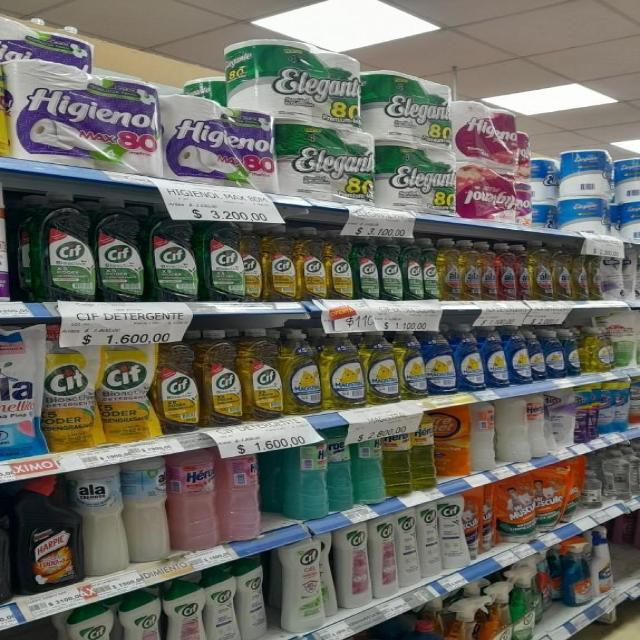ala_conc_amarillo: (530, 241, 552, 301), (438, 238, 459, 300), (460, 240, 480, 301), (552, 241, 571, 301), (480, 241, 497, 301), (572, 244, 588, 301), (516, 242, 530, 301)
ala_conc_rojo: (497, 242, 515, 301)
ala_crem_blanco: (76, 465, 126, 575), (125, 456, 169, 564), (470, 401, 496, 471)
cif_conc_bot_amarilla: (157, 331, 199, 433), (201, 328, 241, 426), (242, 327, 280, 421), (264, 223, 296, 302), (296, 226, 324, 300), (326, 229, 352, 300), (242, 223, 262, 302)
cif_conc_botella_verde: (36, 192, 94, 302), (96, 197, 145, 302), (148, 204, 198, 302), (202, 216, 242, 302), (354, 232, 379, 300), (380, 234, 402, 300), (402, 237, 422, 300), (423, 237, 438, 301)
cif_conc_sachet_amarillo: (41, 330, 97, 451), (99, 332, 154, 442)
heroe: (170, 448, 217, 552), (275, 434, 328, 519), (218, 445, 261, 543)
magistral_con_amarillo: (322, 331, 364, 409), (282, 329, 320, 414), (365, 331, 398, 404), (398, 329, 425, 400)
magistral_con_azul: (426, 327, 454, 396), (456, 325, 483, 392), (484, 325, 507, 388), (508, 327, 528, 385), (545, 328, 564, 379), (529, 328, 545, 382), (565, 328, 581, 377)
